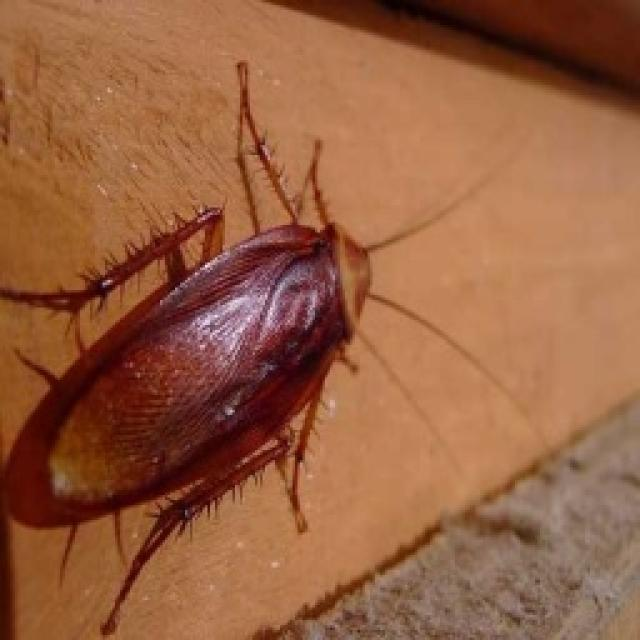cockroach: (0, 35, 539, 639)
